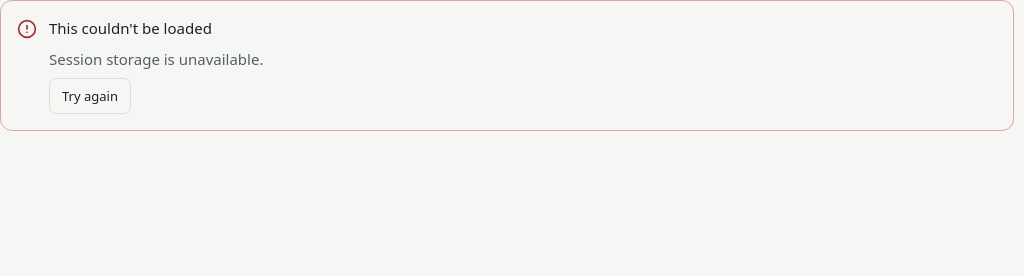
Test: shows storage failure instead of an empty year and reloads on Try again
Expected: the element "Activity" is not shown
Expected: the message shows "Session storage is unavailable.", [49,48,263,68]
Step 1. Click the button "Try again" → (90, 96), box [49,78,131,114]
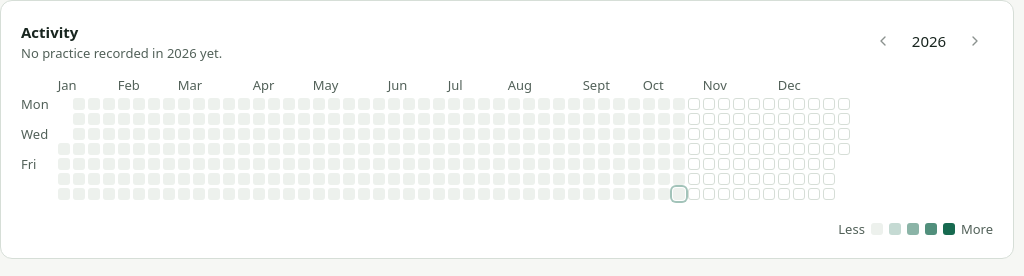
Expected: the element "Activity" shows "No practice recorded", [21,44,222,62]
